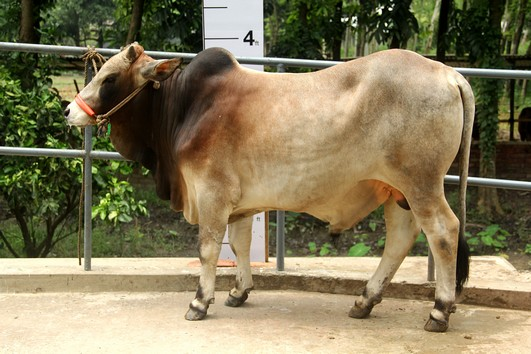cow: (57, 33, 484, 340)
